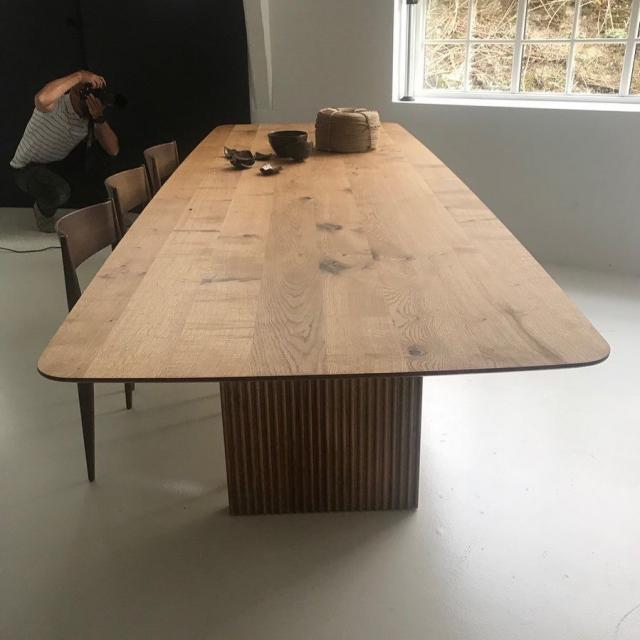table: (37, 102, 614, 530)
